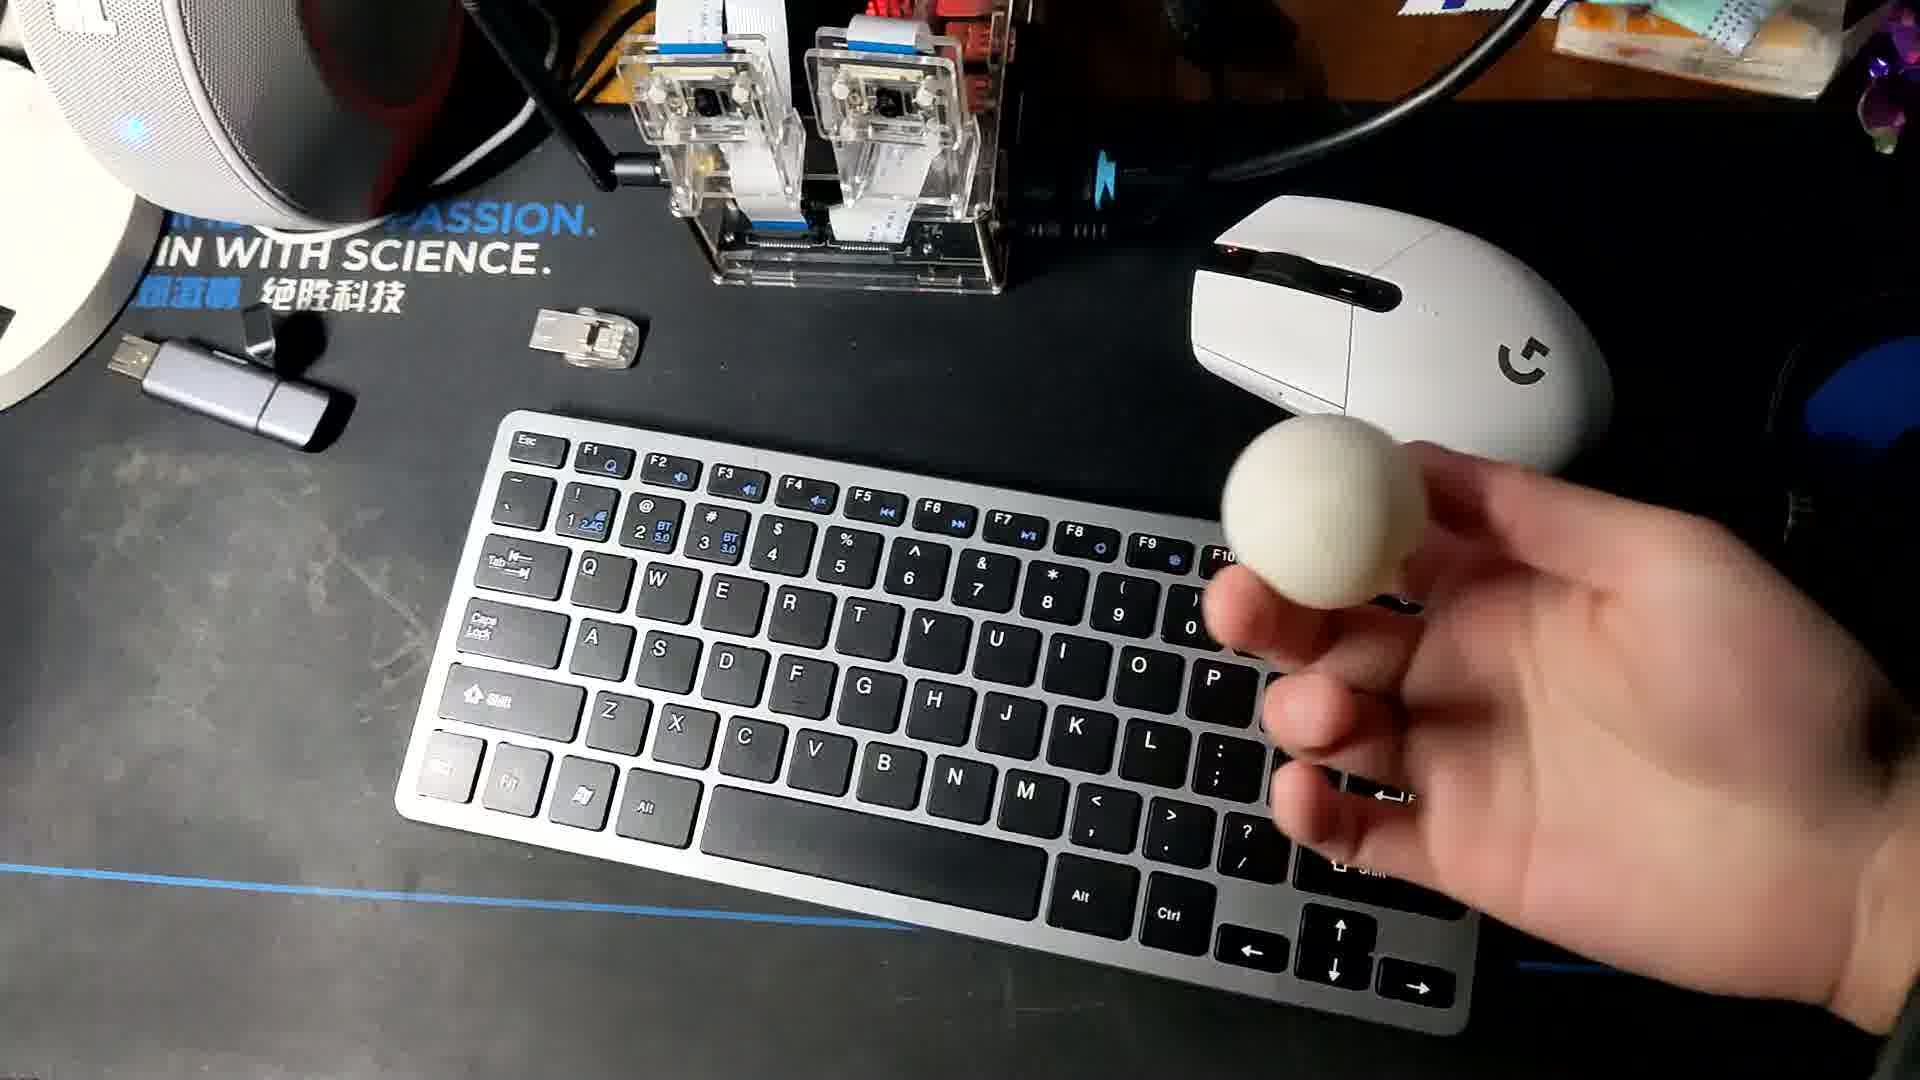Ball: (1224, 419, 1424, 608)
